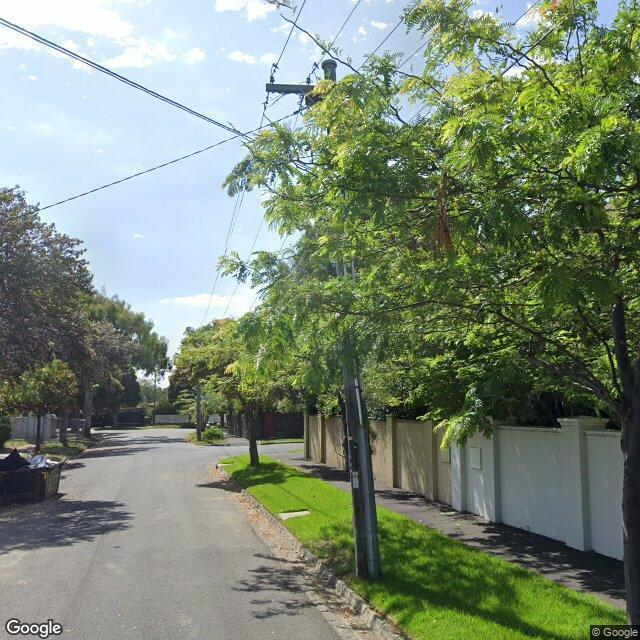crossarm: (266, 83, 316, 94)
streetlight: (322, 60, 382, 582)
